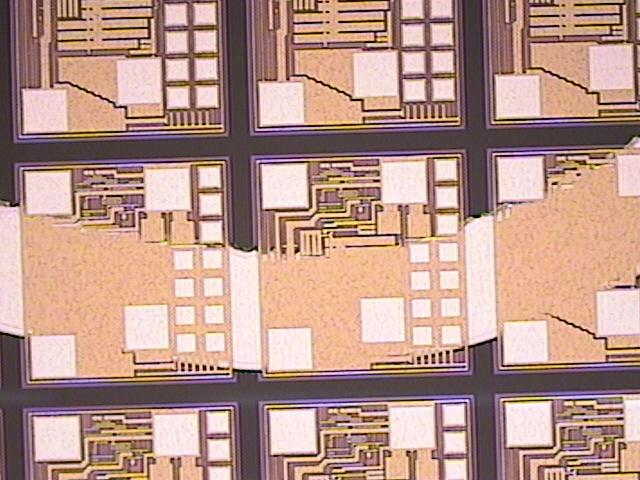COATING BAD: (1, 136, 640, 375)
